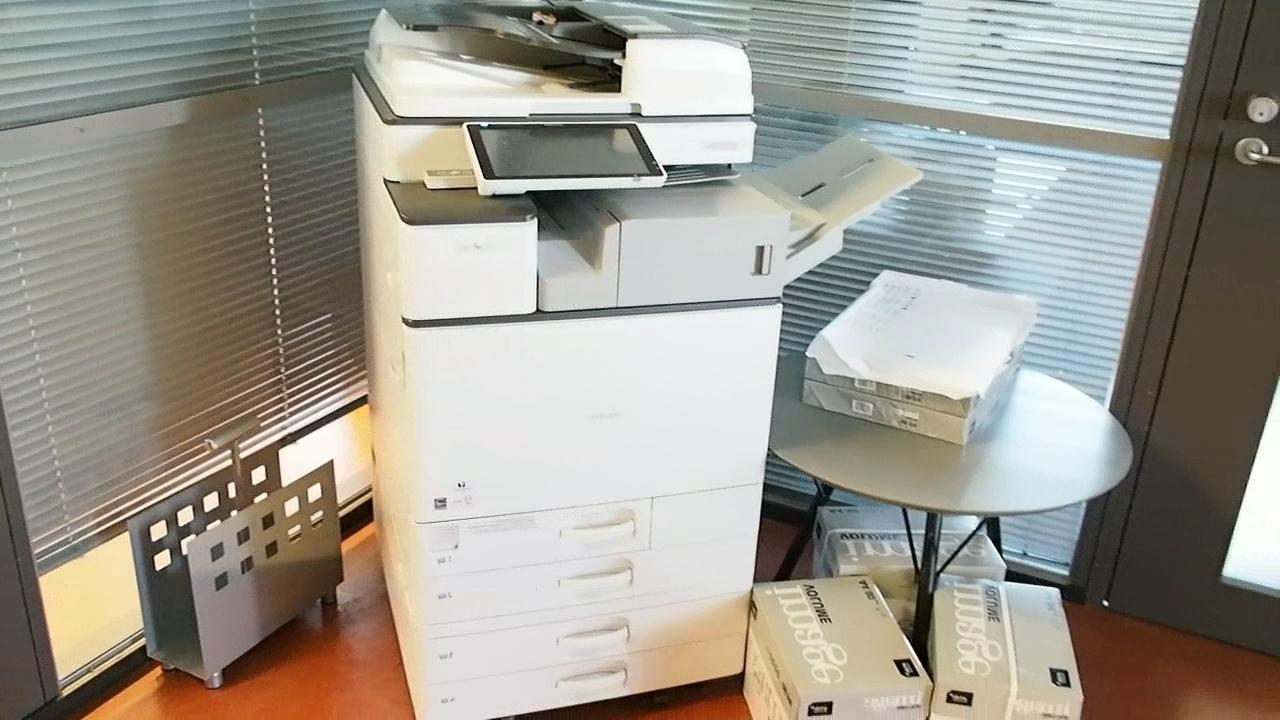printer: (347, 9, 802, 713)
